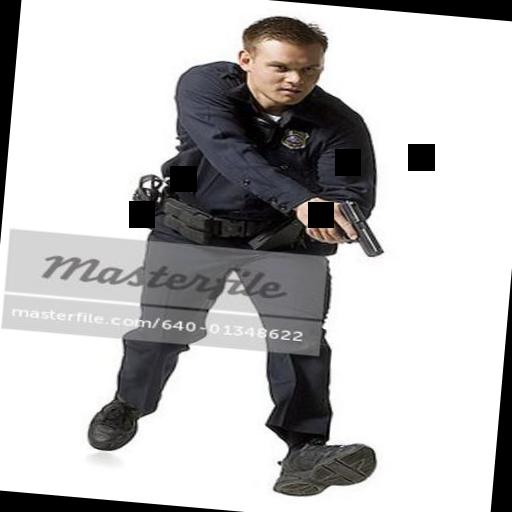Handgun: (306, 190, 382, 258)
